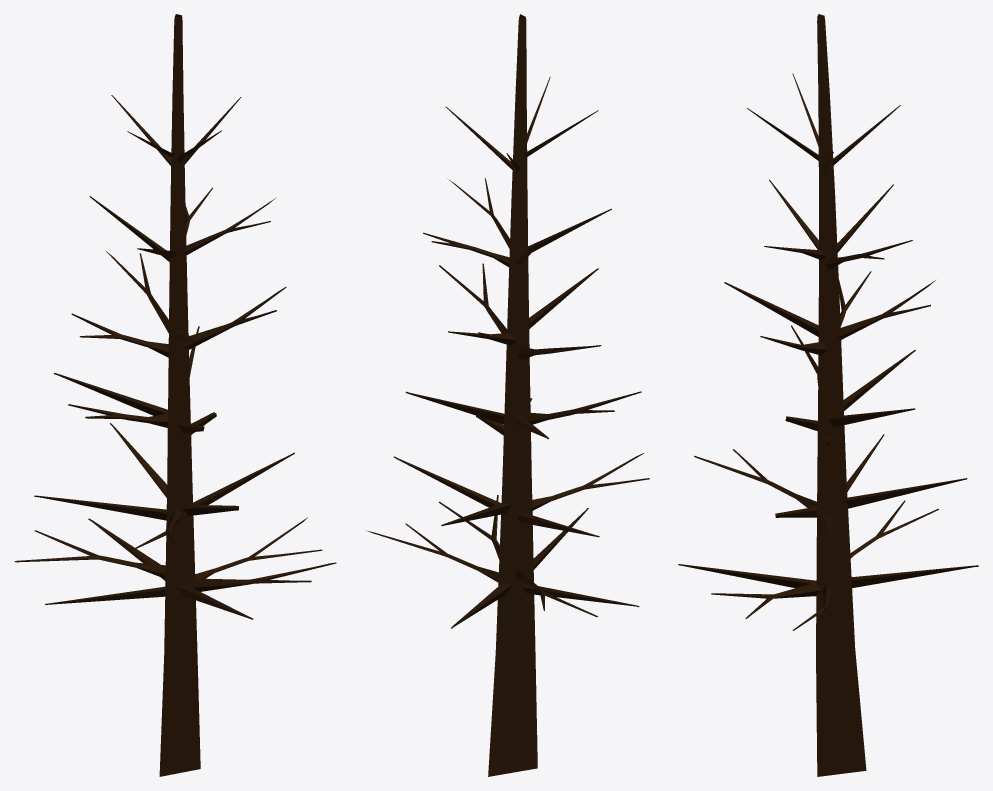
Rendered from TreeB.fbx.
The picture shows the model from 3 angles, left to right: view 1: azimuth 30°, elevation 25°; view 2: azimuth 150°, elevation 25°; view 3: azimuth 270°, elevation 25°; orthographic projection.
Parts seen in each view (by area): view 1: TreeB; view 2: TreeB; view 3: TreeB.
Boxes of the visible parts, left/top/right/bottom form: TreeB: left=14, top=14, right=336, bottom=776; TreeB: left=366, top=14, right=649, bottom=776; TreeB: left=678, top=14, right=978, bottom=776.
Bounding box in the file's own units: 221 × 593 × 215.
